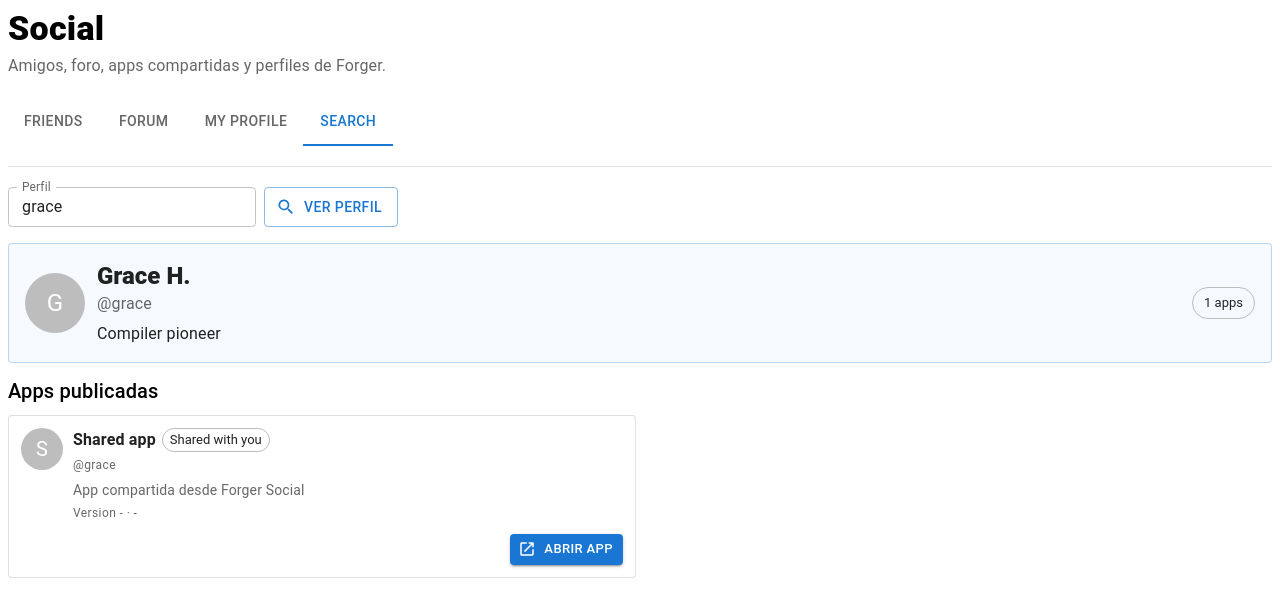
Test: SocialView › loads external profiles with names, bios, app variants, empty and error states
Expected: the heading "Grace H." is shown, [97, 262, 190, 290]
Expected: the text "Compiler pioneer" is shown, [97, 324, 221, 343]
Click the button "Abrir app": (567,549) [510, 534, 623, 565]
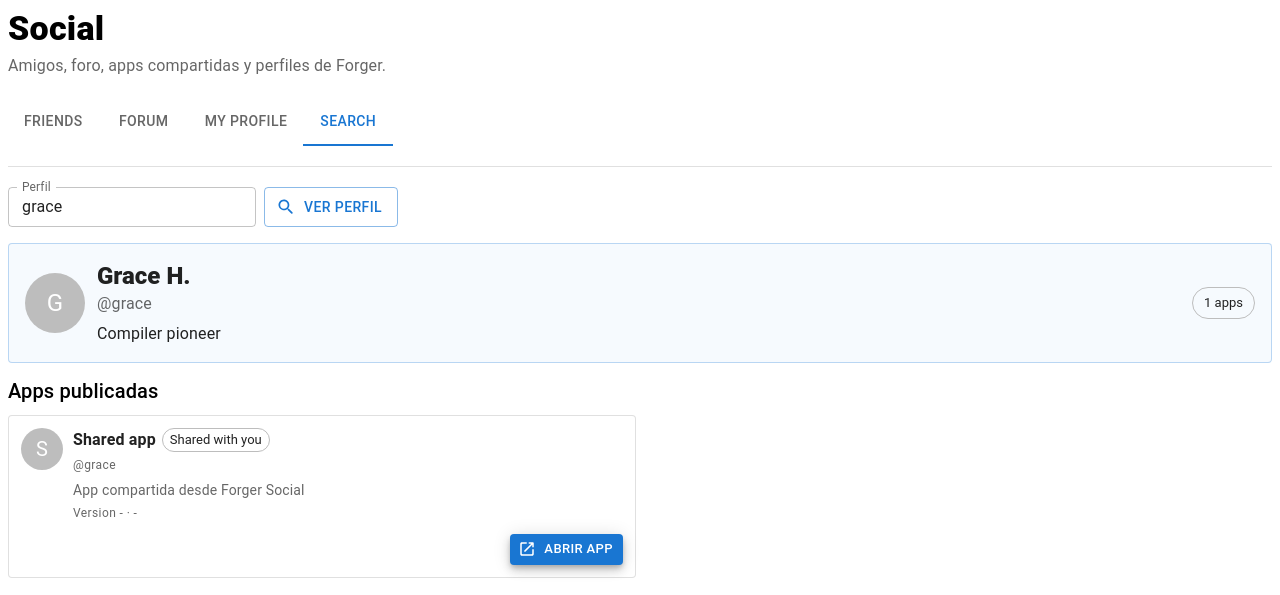
Replace the text in the field labelled "Perfil" with "missing": (132,207) [8, 187, 256, 227]
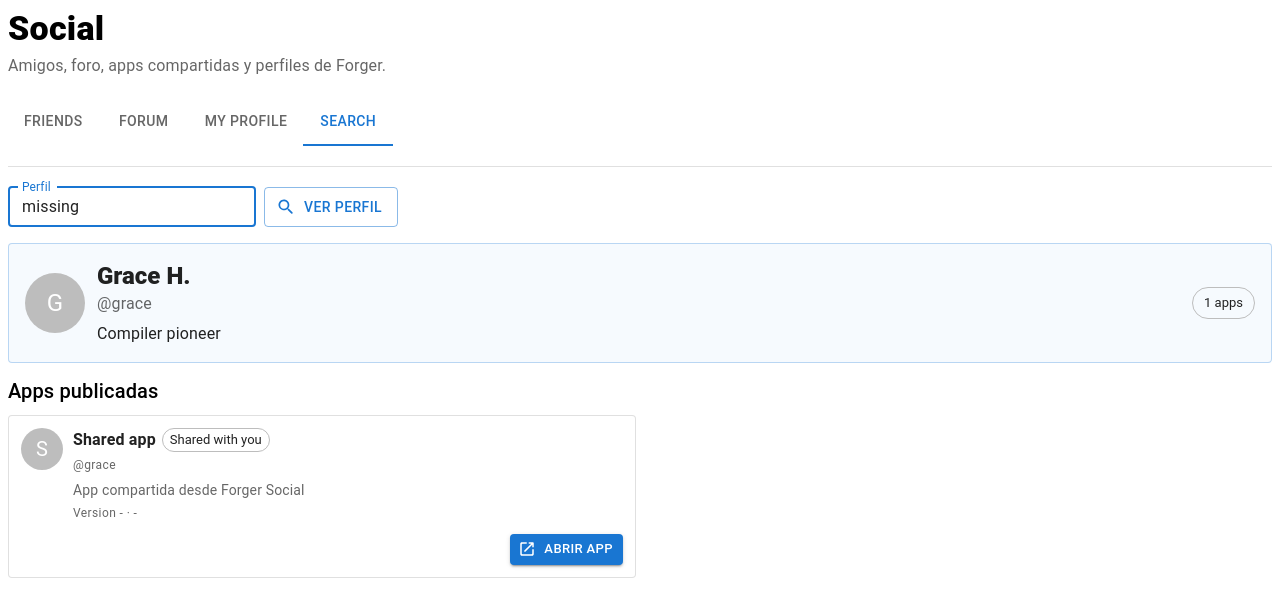
Click the button "Ver perfil": (331,207) [264, 187, 398, 227]
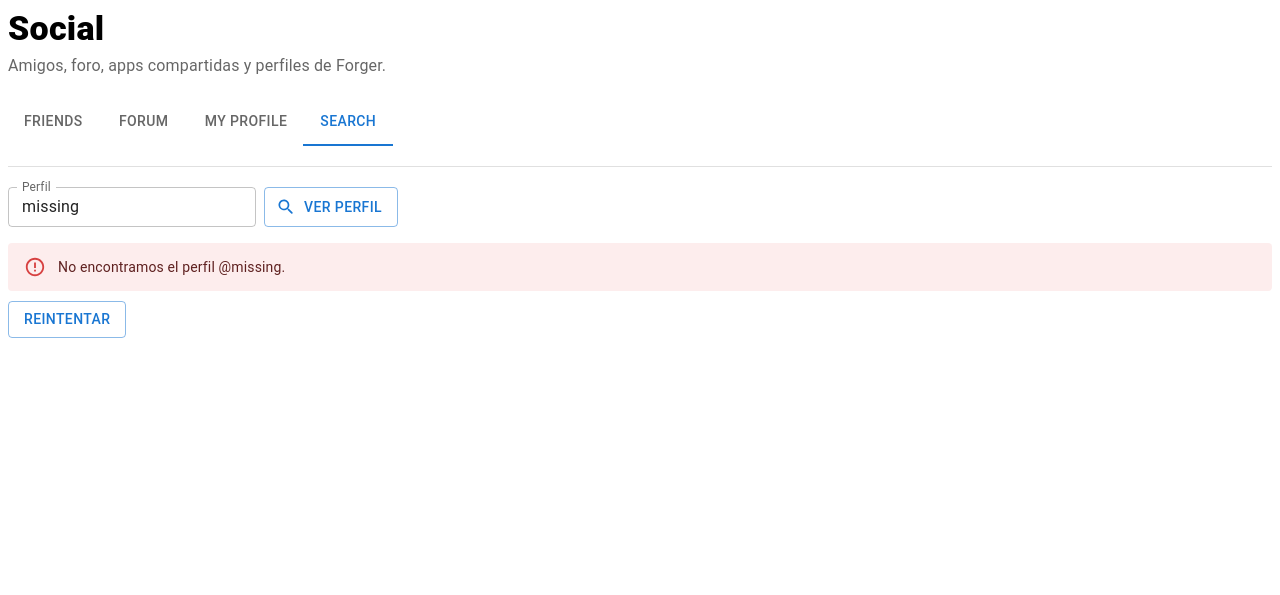
Now the message reads "No encontramos el perfil @missing.", box [58, 259, 285, 275]
Click the button "Reintentar": (67,319) [8, 301, 126, 338]
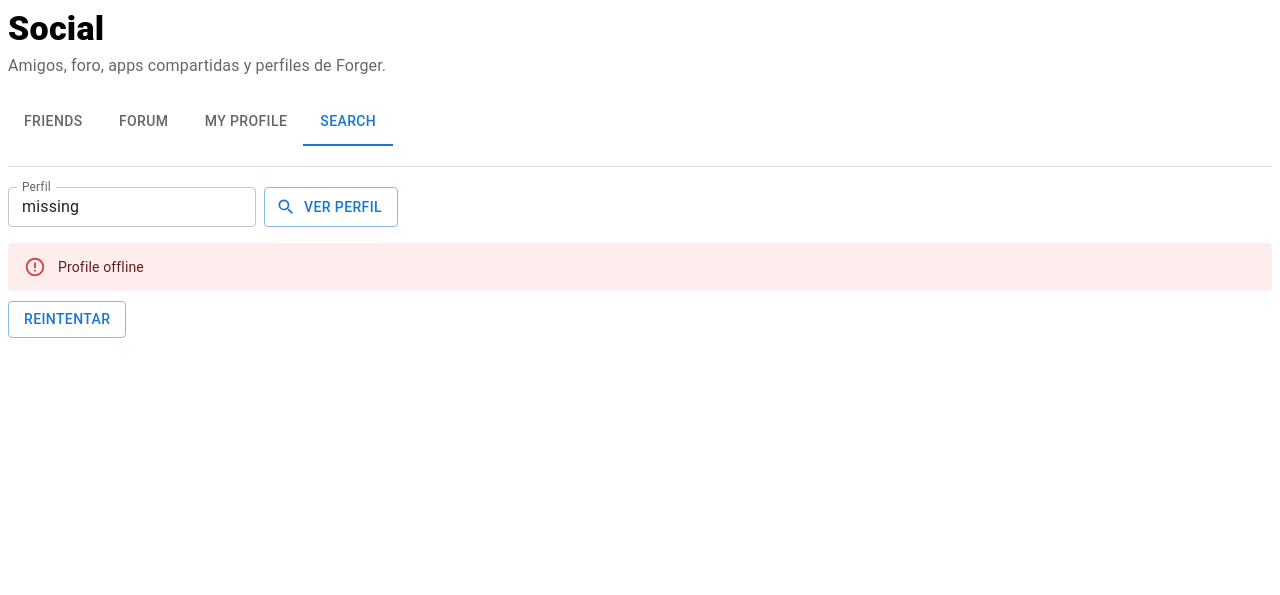
Now the message reads "Profile offline", box [58, 259, 144, 275]
Click the button "Reintentar": (67,319) [8, 301, 126, 338]
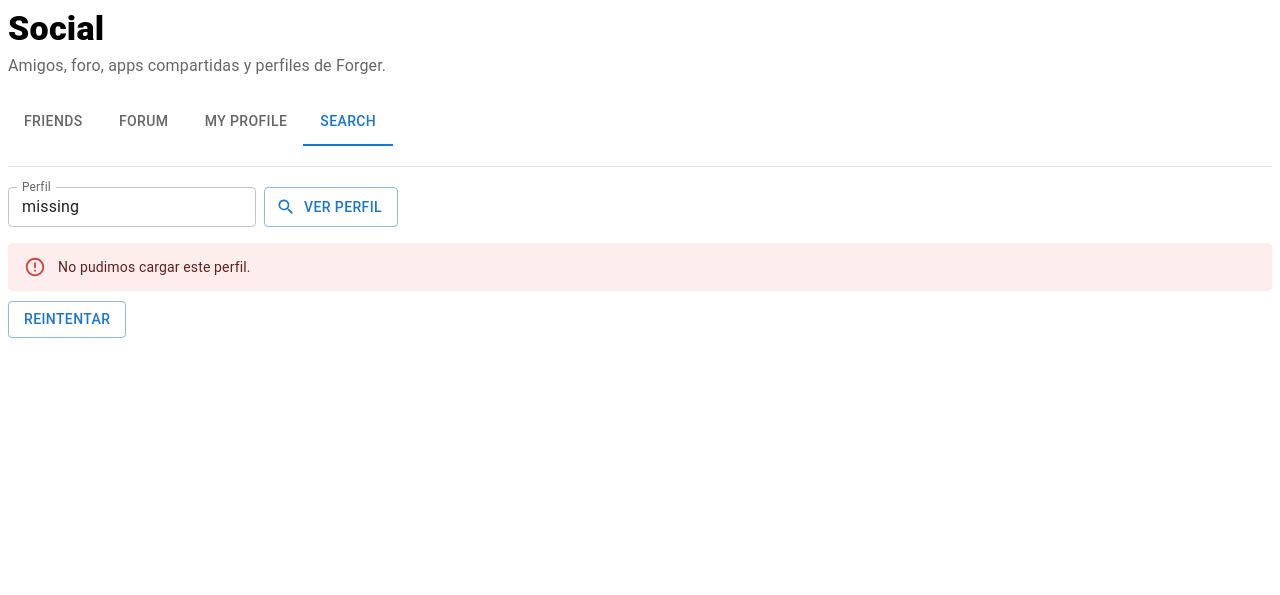
Now the message reads "No pudimos cargar este perfil.", box [58, 259, 251, 275]
